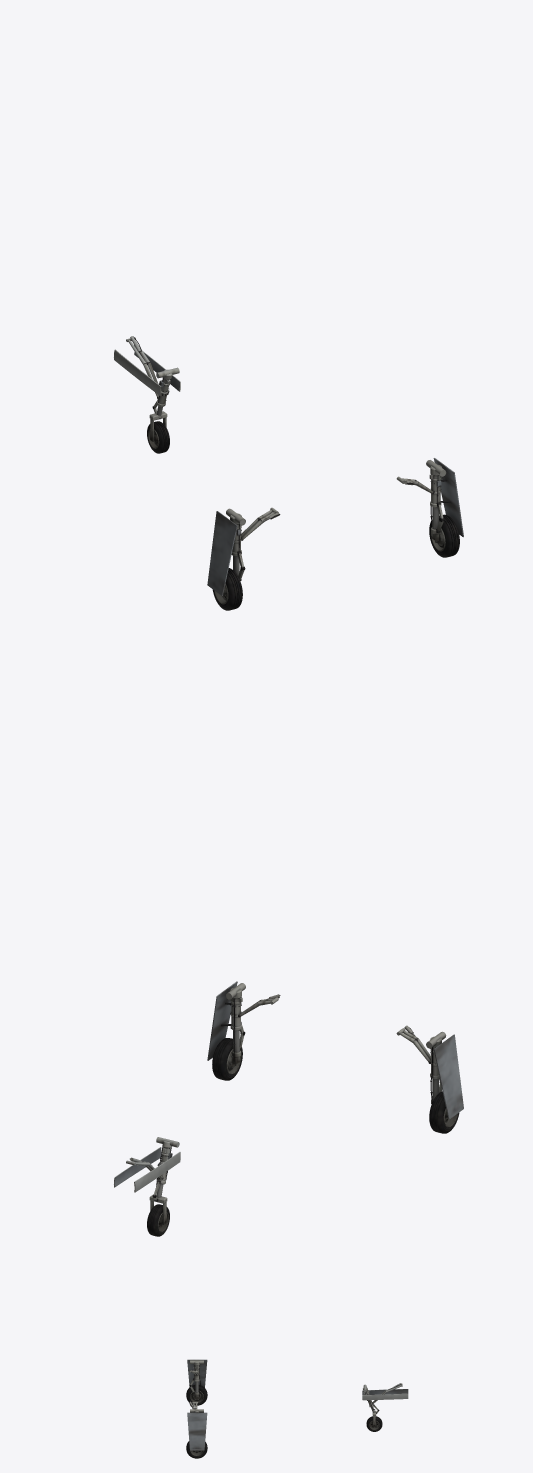
The model's file is e_f5_gear.glb.
The picture shows the model from 3 angles, top to bottom: view 1: azimuth 30°, elevation 25°; view 2: azimuth 150°, elevation 25°; view 3: azimuth 270°, elevation 25°; orthographic projection. The views are drawn at different scales.
Visible parts, largest first — view 1: body|F5_paint; view 2: body|F5_paint; view 3: body|F5_paint.
Part boxes in pixels (left/top/right/bottom): body|F5_paint: left=114, top=336, right=463, bottom=610; body|F5_paint: left=114, top=981, right=463, bottom=1236; body|F5_paint: left=186, top=1359, right=408, bottom=1458.
Size of the model in its own units: 4.02 by 5.26 by 14.5.
2 materials, 1 textured.
